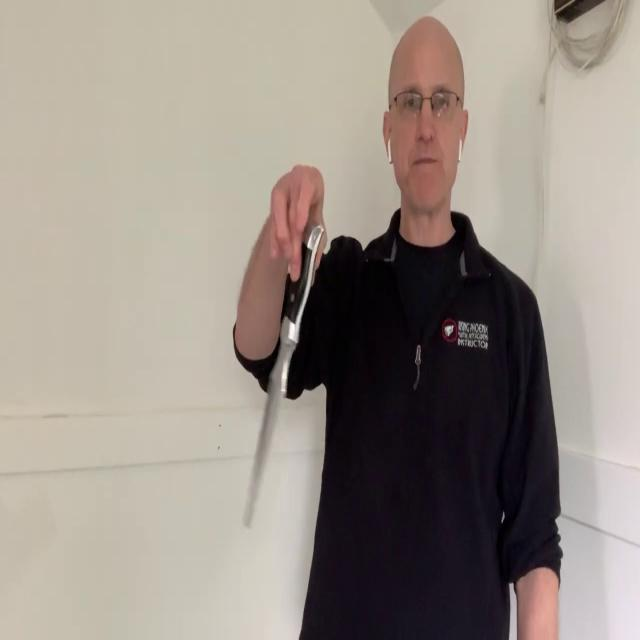Knife_Handle: (244, 163, 326, 527)
